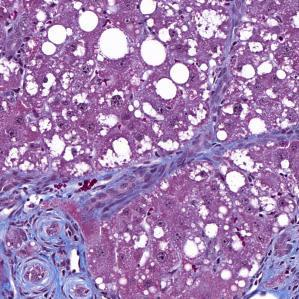fibrosis: (3, 206, 91, 292), (89, 165, 165, 201), (261, 232, 299, 295)
